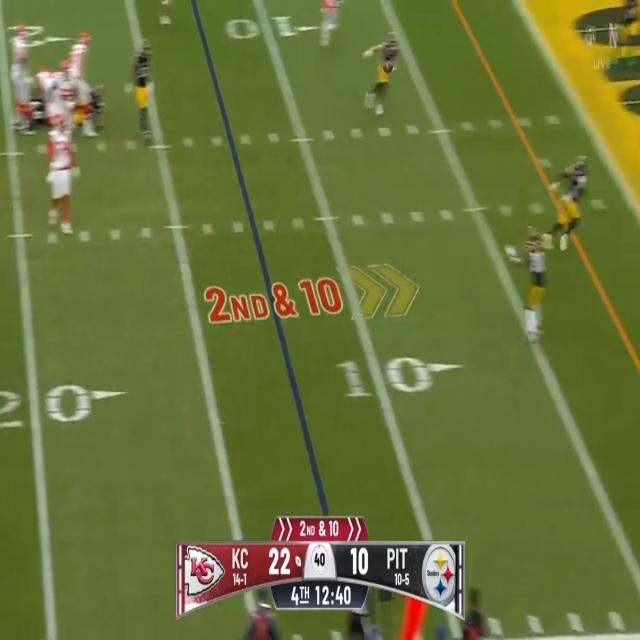Ball: (383, 62, 393, 73)
